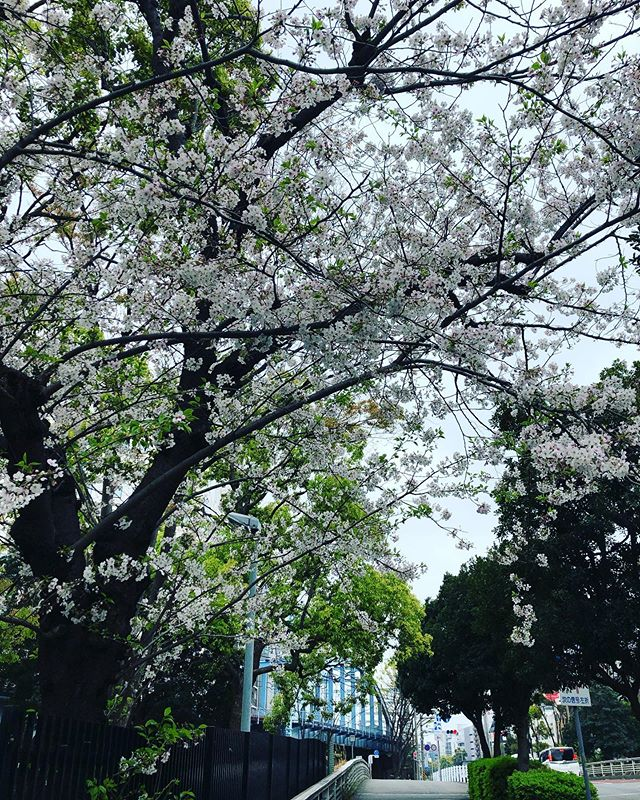flowers: (1, 1, 621, 572)
tree: (506, 393, 640, 704), (416, 569, 562, 775)
